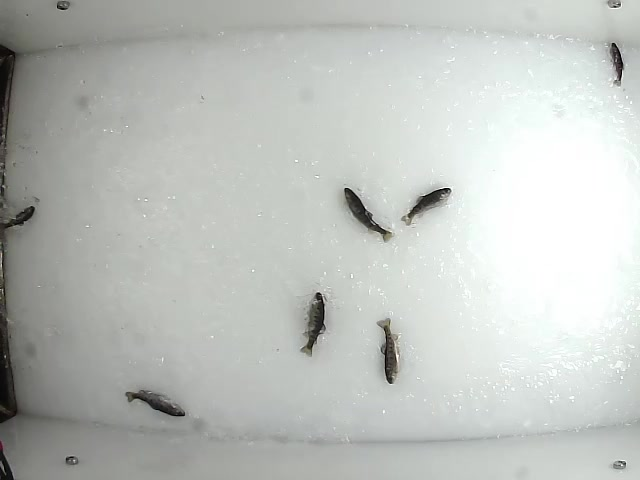fish: (342, 185, 395, 243), (399, 184, 453, 228), (296, 287, 329, 358), (373, 315, 403, 385), (124, 388, 187, 419), (1, 202, 37, 231), (609, 43, 623, 90)
